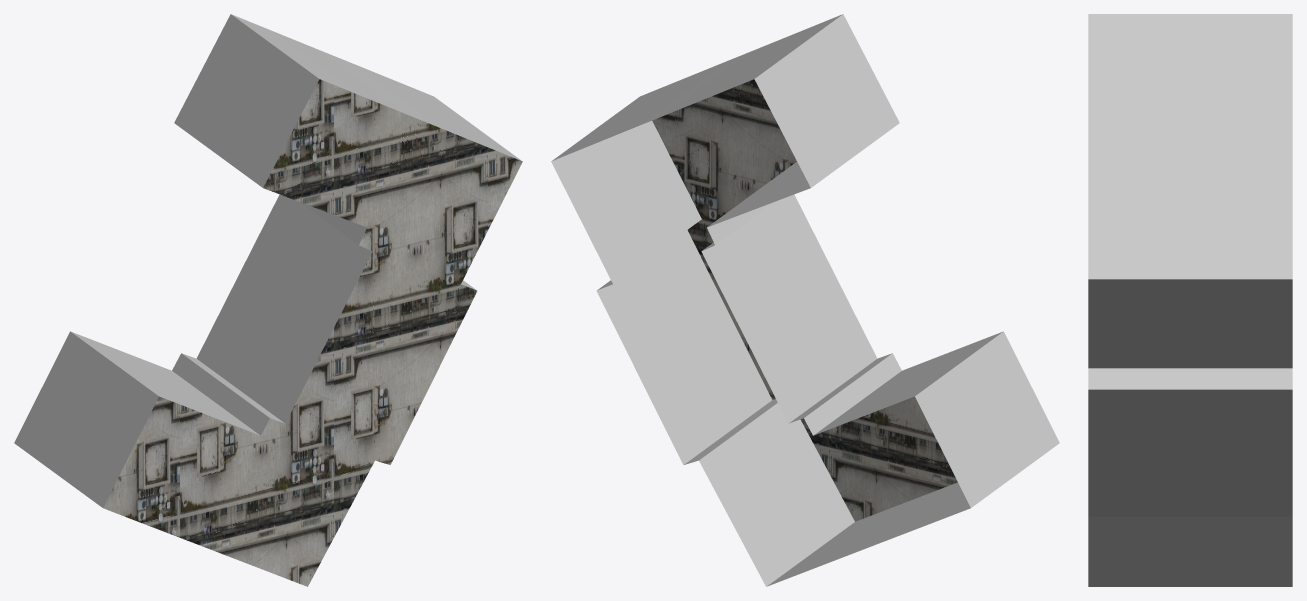
The model's file is geospecific_2136.obj.
3 renders of one model, left to right at view 1: azimuth 30°, elevation 25°; view 2: azimuth 150°, elevation 25°; view 3: azimuth 270°, elevation 25°, orthographic. The views are drawn at different scales.
Parts seen in each view (by area): view 1: Building; view 2: Building; view 3: Building.
Boxes of the visible parts, x1=… form: Building: x1=14, y1=14, x2=522, y2=586; Building: x1=551, y1=14, x2=1059, y2=586; Building: x1=1088, y1=14, x2=1292, y2=586.
Size of the model in its own units: 40.9 by 47 by 15.
